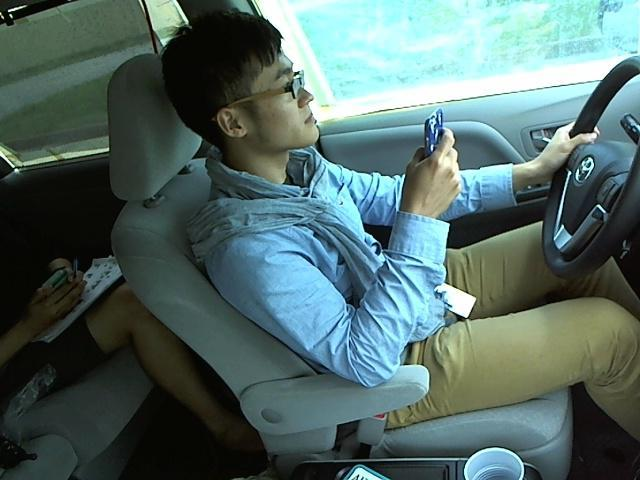PhoneUse: (417, 104, 454, 188)
